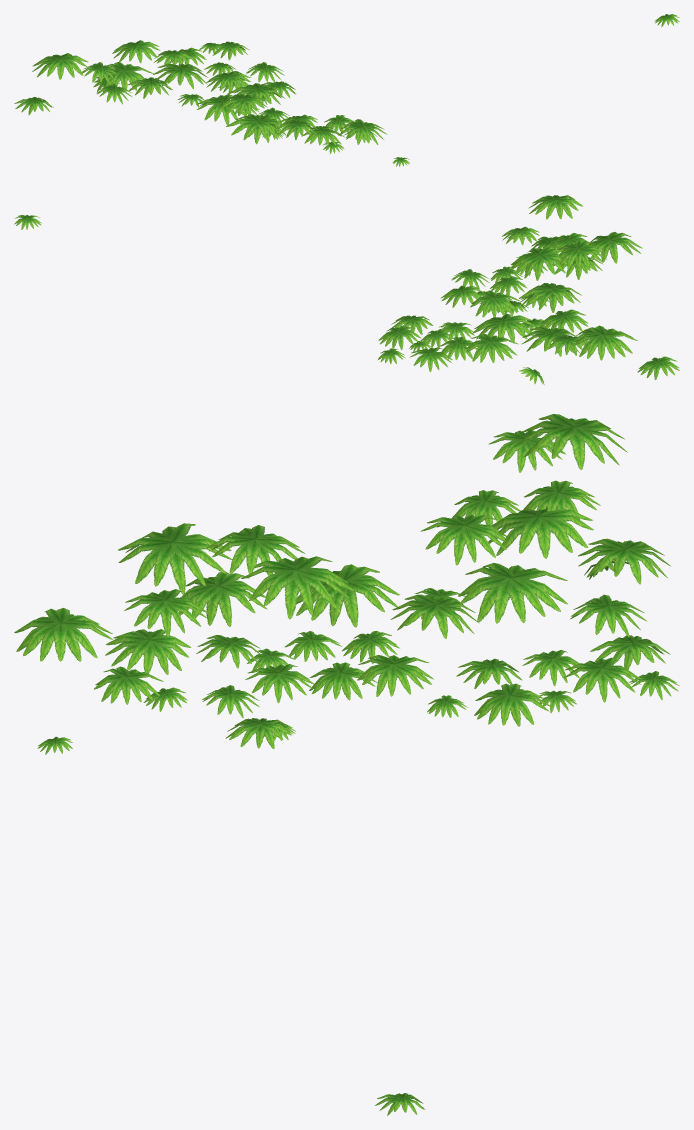
The model's file is PalmCrowns1Shape.dae.
3 views of the same model, one above another, from view 1: azimuth 30°, elevation 25°; view 2: azimuth 150°, elevation 25°; view 3: azimuth 270°, elevation 25° (orthographic). The views are drawn at different scales.
Visible parts, largest first — view 1: PalmCrowns1; view 2: PalmCrowns1; view 3: PalmCrowns1.
Boxes of the visible parts, bbox=[...] form: PalmCrowns1: bbox=[14, 14, 679, 166]; PalmCrowns1: bbox=[14, 195, 679, 384]; PalmCrowns1: bbox=[14, 414, 679, 1115].
Bounding box in the file's own units: 374 × 40.83 × 173.
